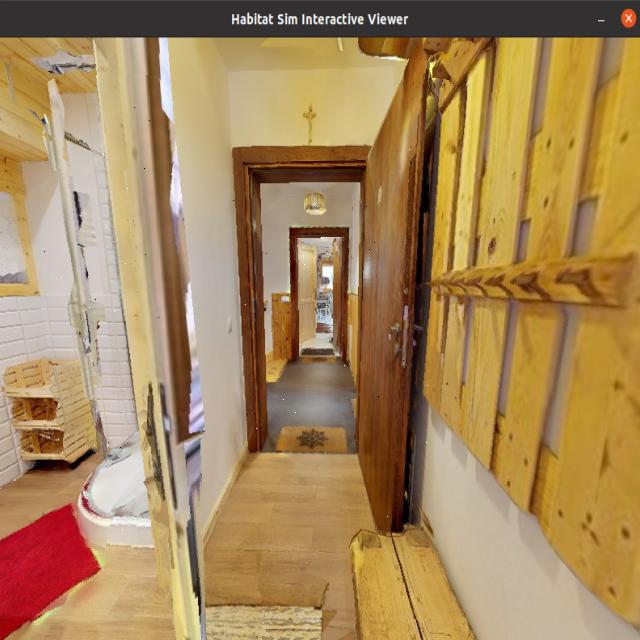door: (351, 60, 428, 534)
door-frame: (228, 146, 378, 462)
shower: (42, 75, 160, 538)
